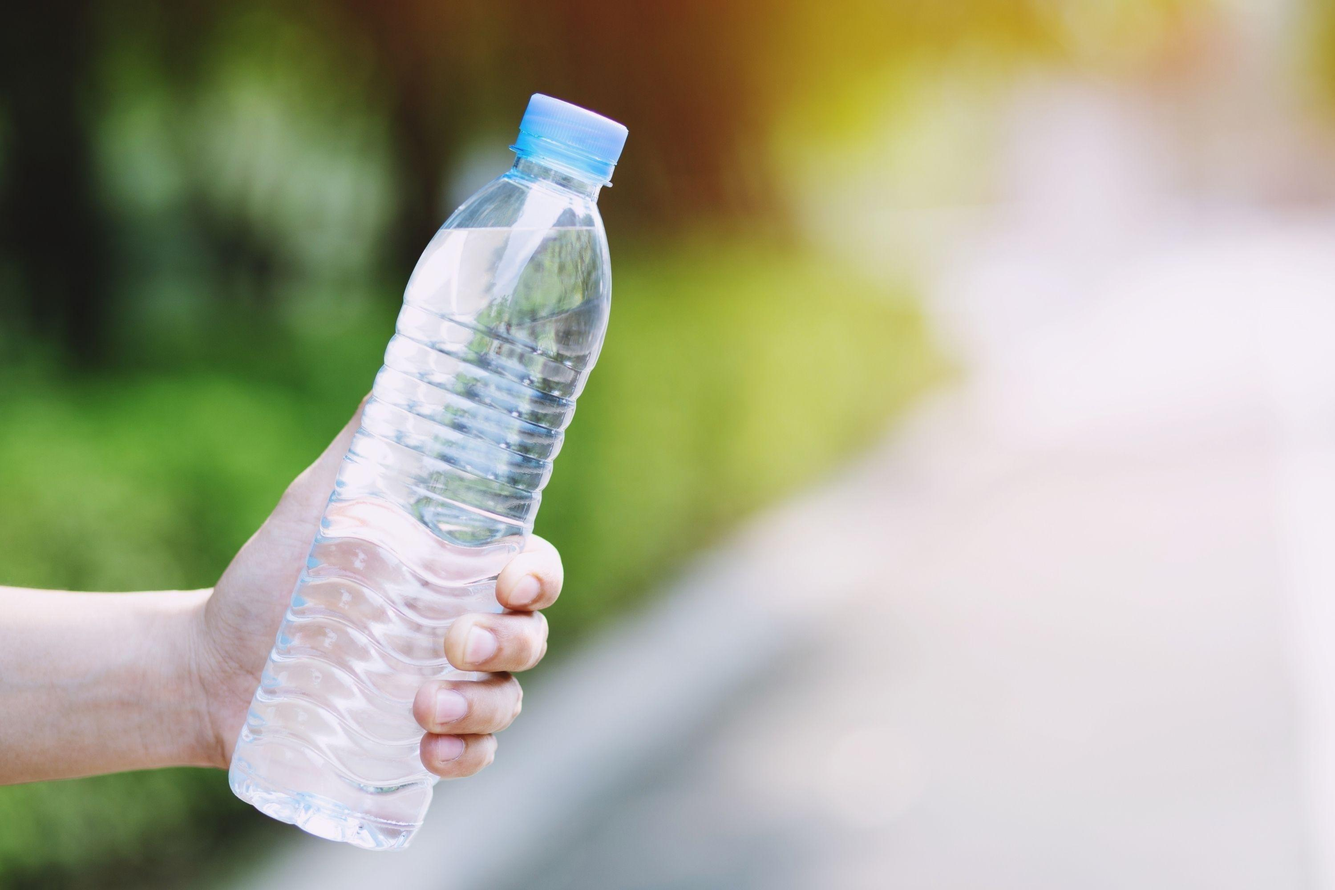bottle-plastic: (223, 89, 630, 856)
